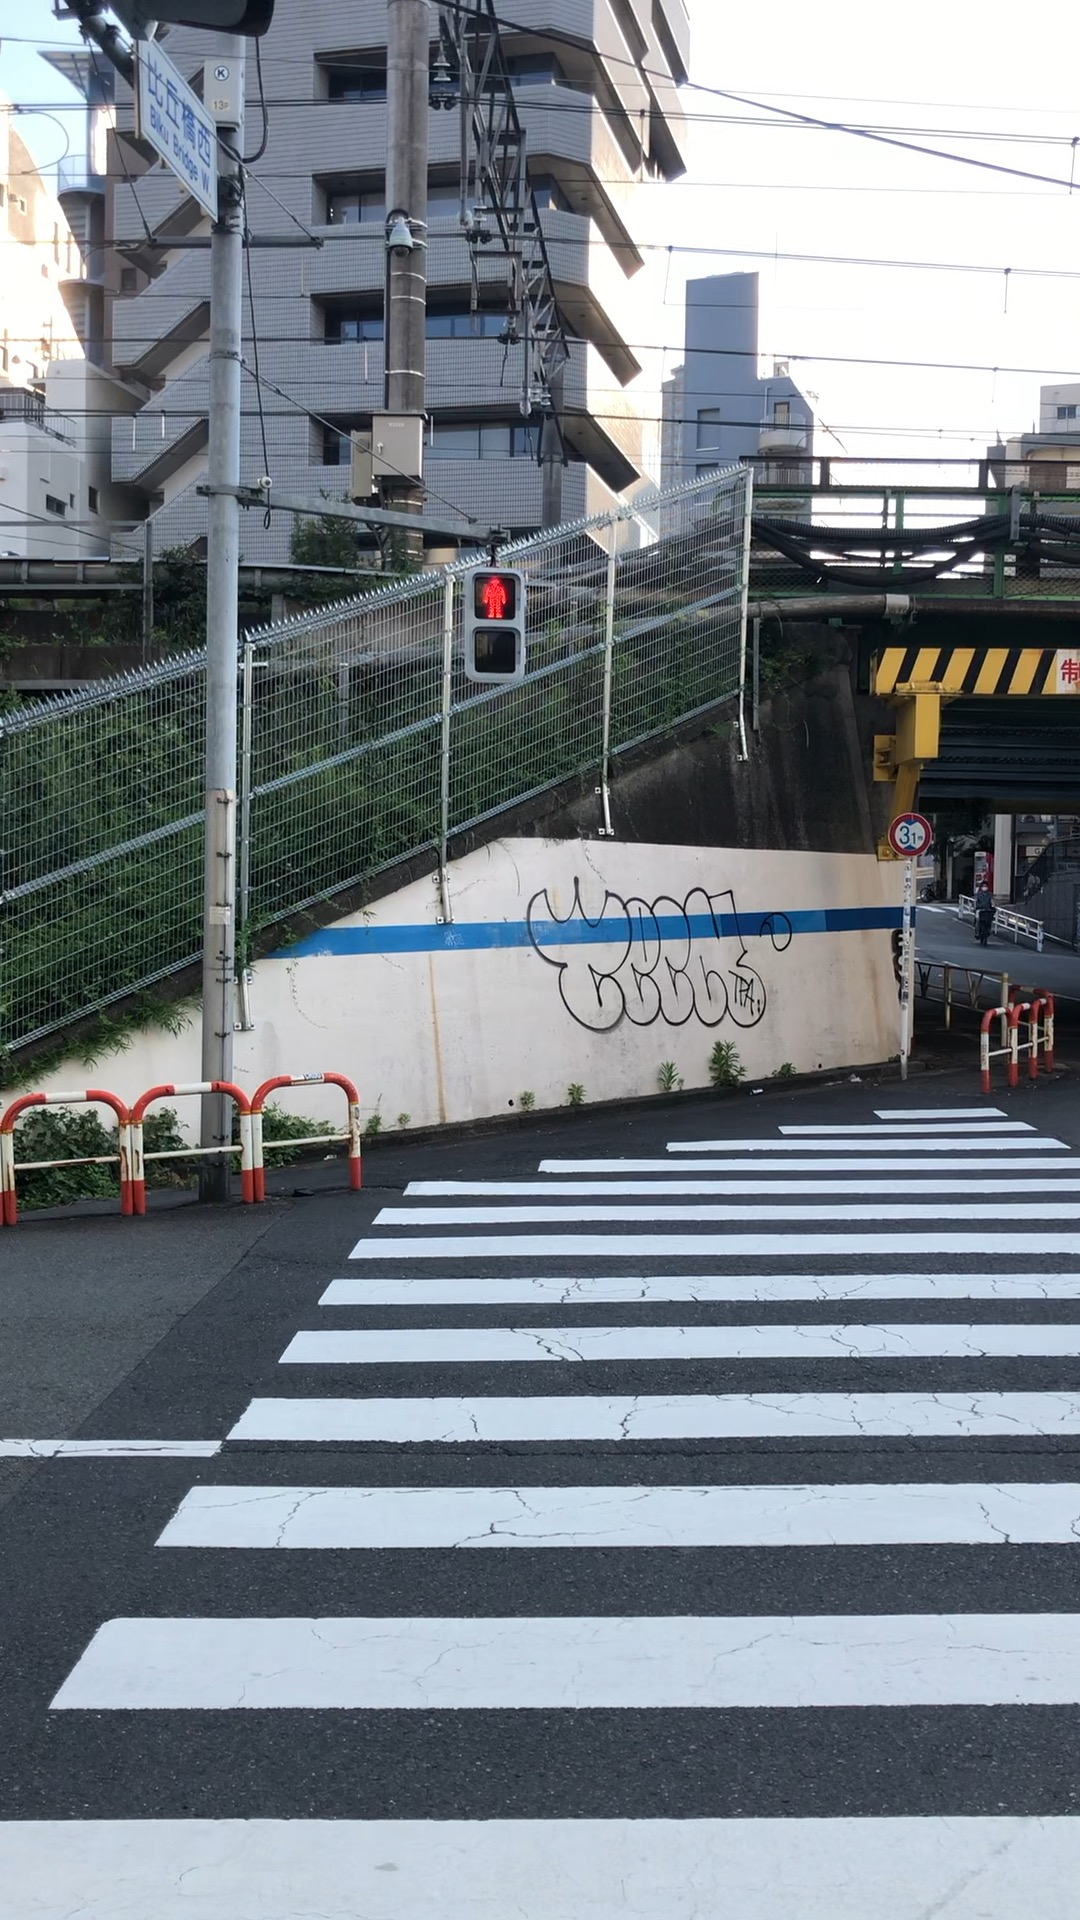red: (462, 564, 526, 682)
